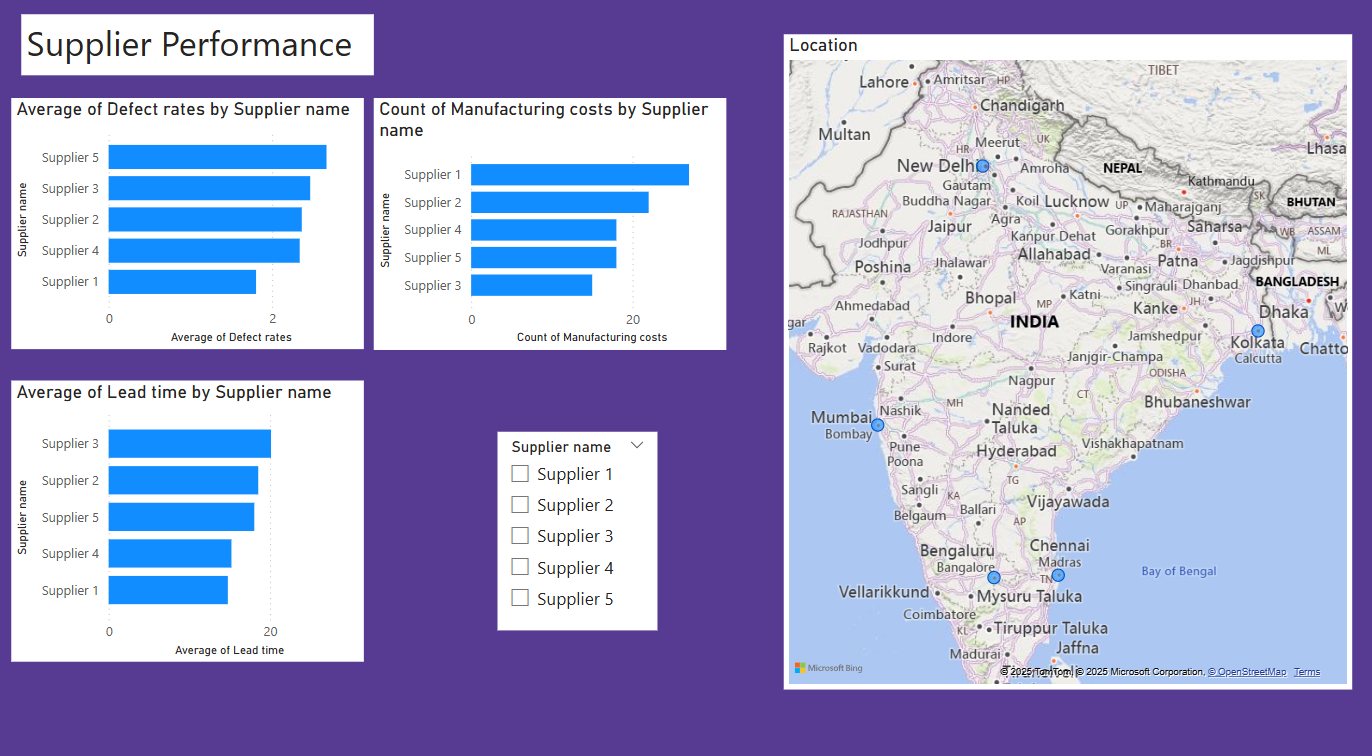

The dashboard page shown, as its layout file describes it:
{"tool":"powerbi","page":{"name":"Supplier Performance","canvas":[1280,720],"ordinal":1},"visuals":[{"type":"textbox","box":[19.8,19.8,327.9,57],"z":0},{"type":"barChart","fields":{"Category":["supply_chain_data.Supplier name"],"Y":["Avg(supply_chain_data.Defect rates)"]},"box":[10.5,97.7,327.9,233.7],"z":1000},{"type":"barChart","fields":{"Y":["Avg(supply_chain_data.Lead time)"],"Category":["supply_chain_data.Supplier name"]},"box":[10.5,360.5,327.9,261.6],"z":2000},{"type":"barChart","fields":{"Y":["CountNonNull(supply_chain_data.Manufacturing costs)"],"Category":["supply_chain_data.Supplier name"]},"box":[348,98,328,234],"z":3000},{"type":"map","fields":{"Category":["supply_chain_data.Location"]},"box":[729.1,38.4,529.1,609.3],"z":4000},{"type":"slicer","fields":{"Values":["supply_chain_data.Supplier name"]},"box":[462.8,408.1,148.8,184.9],"z":5000}]}

Visuals, with their boxes in screenshot pixels (x1, y1, x2, y2), scaled from the page's 1280x720 canvas onto the 1372x756 screenshot:
textbox: box(21, 21, 373, 81)
barChart - supply_chain_data.Supplier name x Avg(supply_chain_data.Defect rates): box(11, 103, 363, 348)
barChart - Avg(supply_chain_data.Lead time) x supply_chain_data.Supplier name: box(11, 379, 363, 653)
barChart - CountNonNull(supply_chain_data.Manufacturing costs) x supply_chain_data.Supplier name: box(373, 103, 725, 349)
map - supply_chain_data.Location: box(782, 40, 1349, 680)
slicer - supply_chain_data.Supplier name: box(496, 429, 656, 623)
